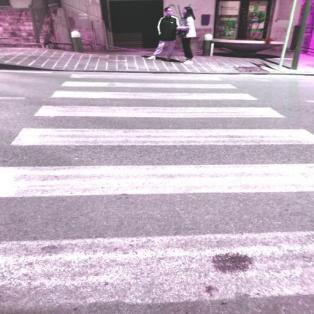Paso de Cebra: (0, 159, 314, 311), (32, 89, 290, 121)
